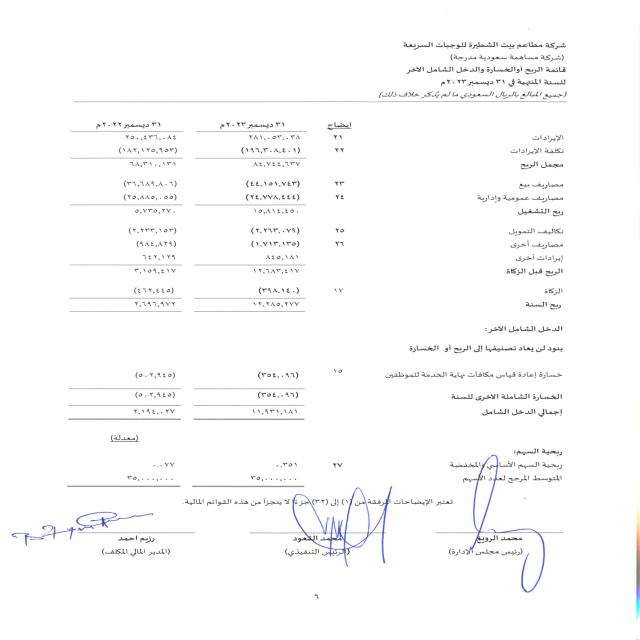financial_sheets: (403, 64, 569, 74)
table: (37, 113, 365, 496)
